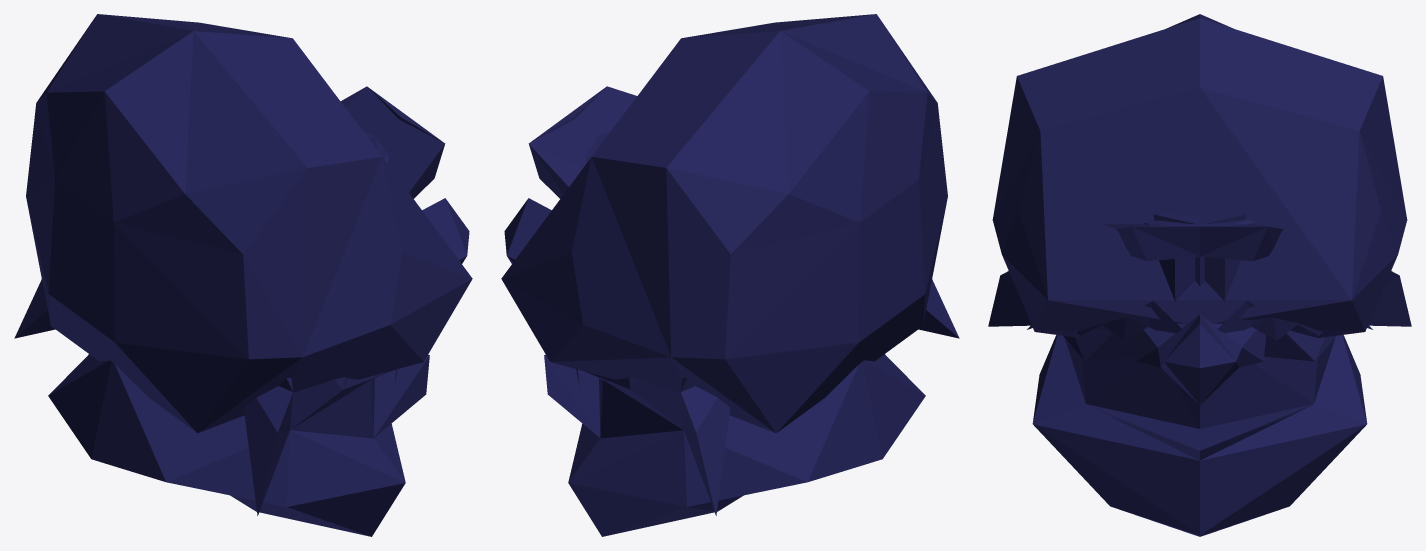
File: wario_metal_model.glb
The picture shows the model from 3 angles, left to right: view 1: azimuth 30°, elevation 25°; view 2: azimuth 150°, elevation 25°; view 3: azimuth 270°, elevation 25°; orthographic projection. The views are drawn at different scales.
Visible parts, largest first — view 1: wario_metal_model; view 2: wario_metal_model; view 3: wario_metal_model.
Boxes of the visible parts, x1,y1,x2,y2 form: wario_metal_model: (14,14,472,536); wario_metal_model: (501,14,959,536); wario_metal_model: (988,14,1411,536).
Bounding box in the file's own units: 10.38 × 13.51 × 11.28.
Materials: 7 (7 with a texture image).
